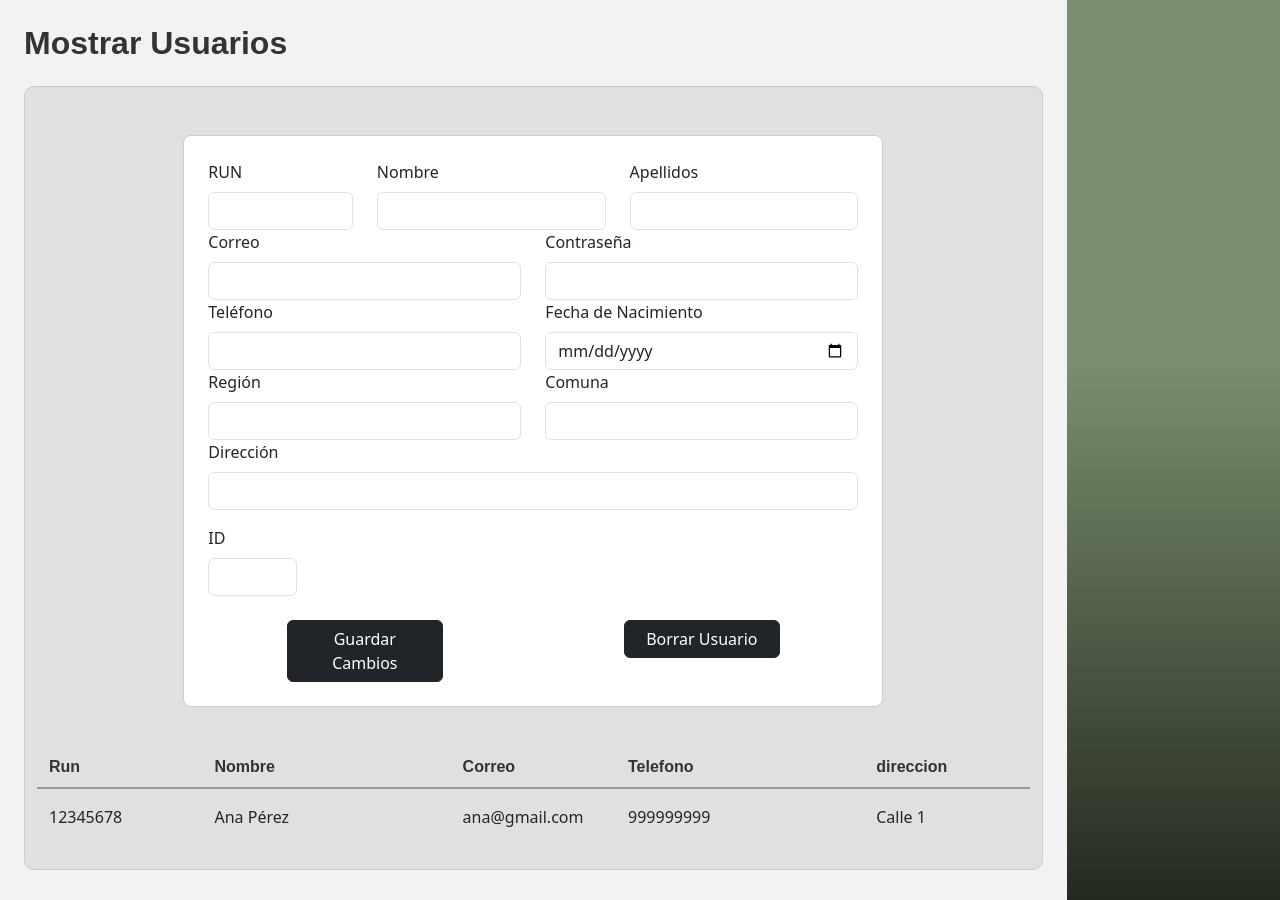
Test: vista admin de mostrar usuarios › carga los datos del usuario en el formulario al hacer clic en su fila
Click the text "12345678".
click(86, 817)  # box [49, 806, 122, 828]
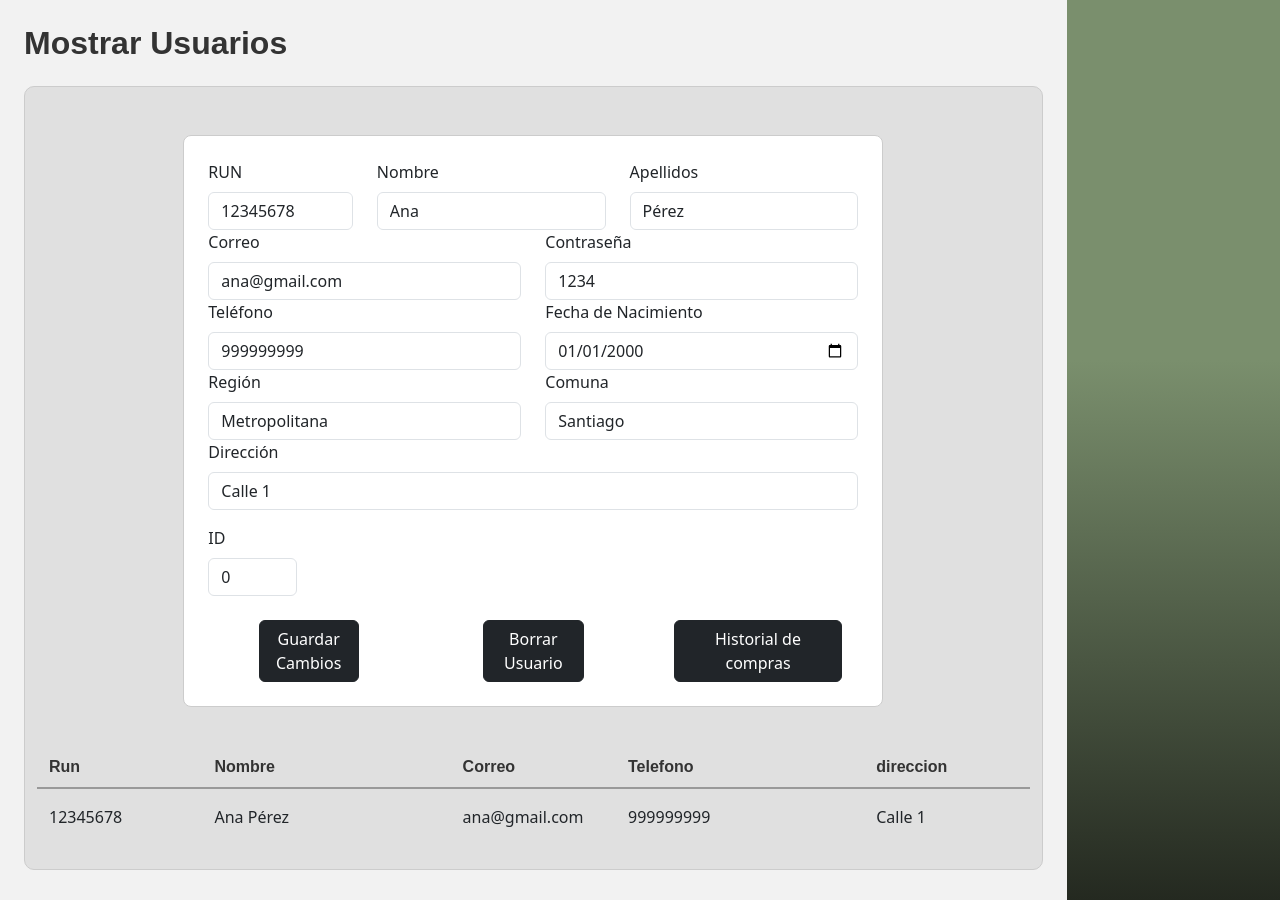
expect the field showing "Ana" is shown: met, box [377, 192, 606, 230]
expect the field showing "Calle 1" is shown: met, box [208, 472, 858, 510]
